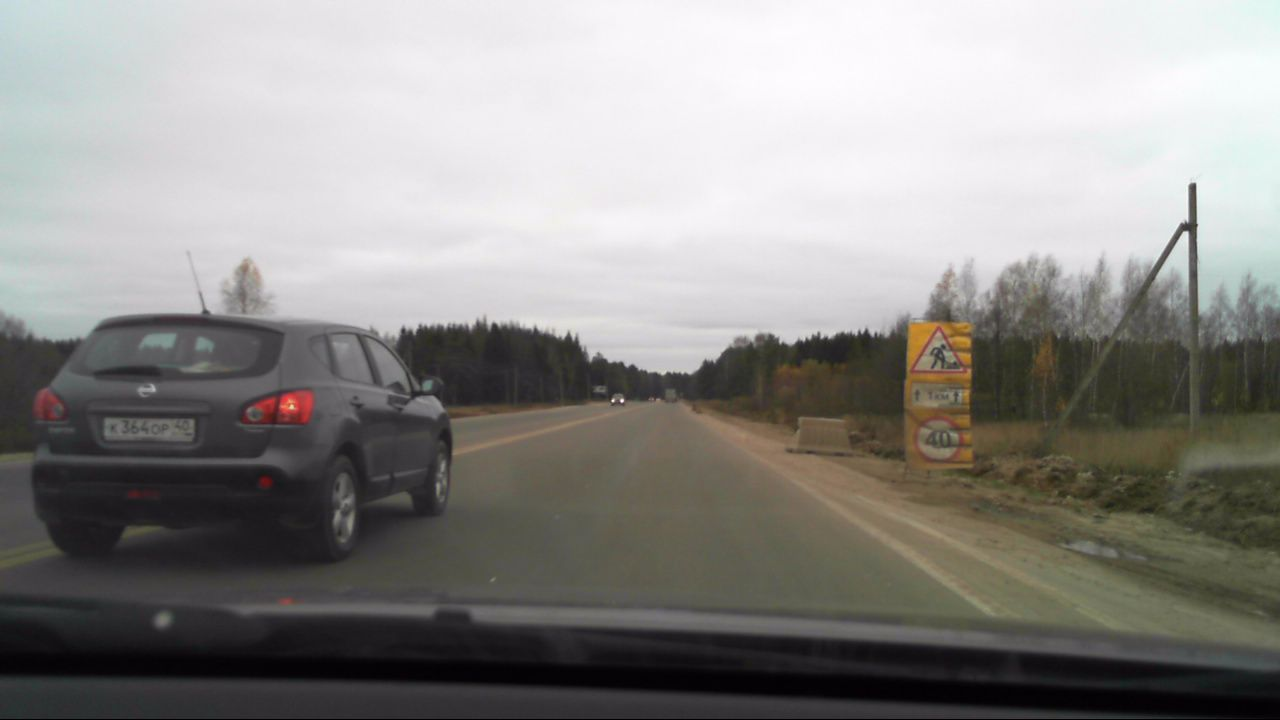speed_warning_40: (909, 416, 965, 462)
